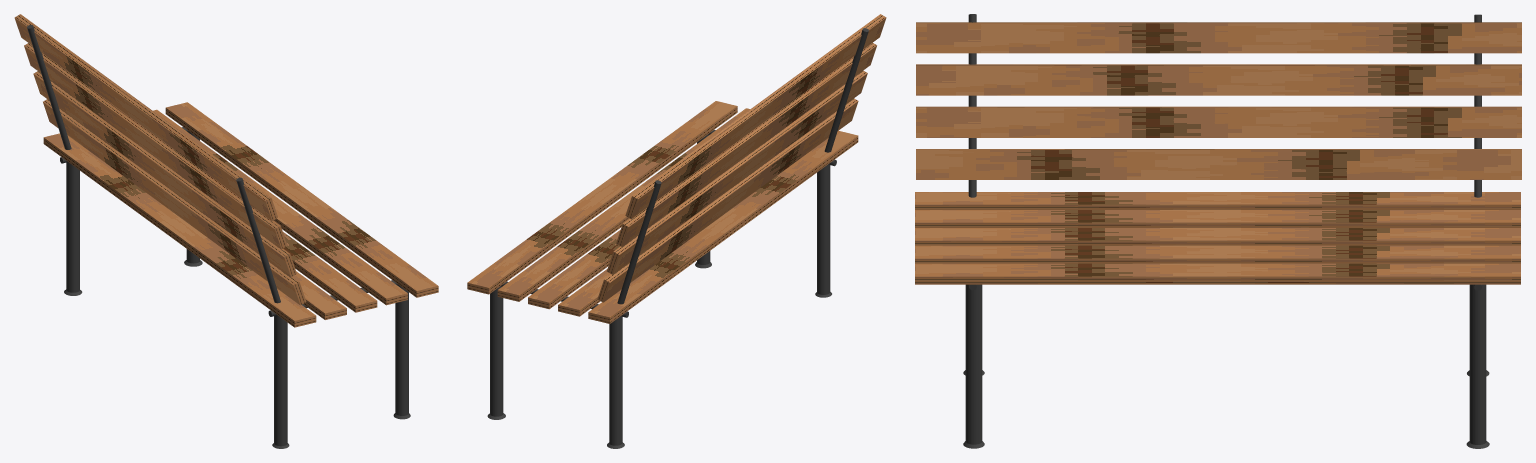
File: lavka.fbx
The picture shows the model from 3 angles, left to right: view 1: azimuth 30°, elevation 25°; view 2: azimuth 150°, elevation 25°; view 3: azimuth 270°, elevation 25°; orthographic projection. The views are drawn at different scales.
Visible parts, largest first — view 1: Cube, Cube.001, Cylinder.002; view 2: Cube, Cube.001, Cylinder.002; view 3: Cube.001, Cube, Cylinder.002.
Boxes of the visible parts, box(x1,y1,x2,y2) form: Cube: box(43, 102, 438, 327); Cube.001: box(14, 14, 306, 305); Cylinder.002: box(27, 25, 410, 448); Cube: box(467, 101, 858, 323); Cube.001: box(597, 14, 886, 302); Cylinder.002: box(487, 28, 868, 448); Cube.001: box(916, 22, 1521, 179); Cube: box(915, 192, 1520, 284); Cylinder.002: box(963, 14, 1489, 448).
Size of the model in its own units: 303 by 451 by 741.
